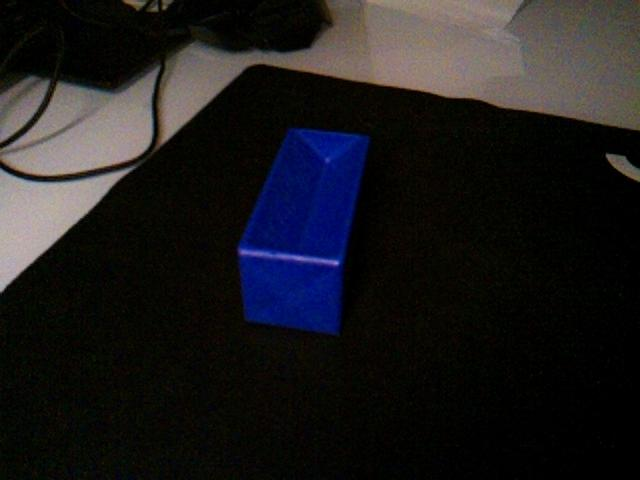blue: (235, 125, 372, 338)
